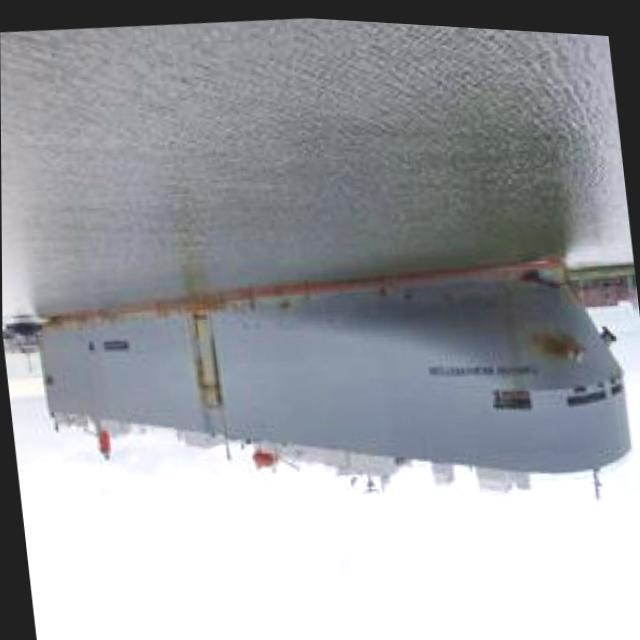ship2: (35, 245, 632, 495)
